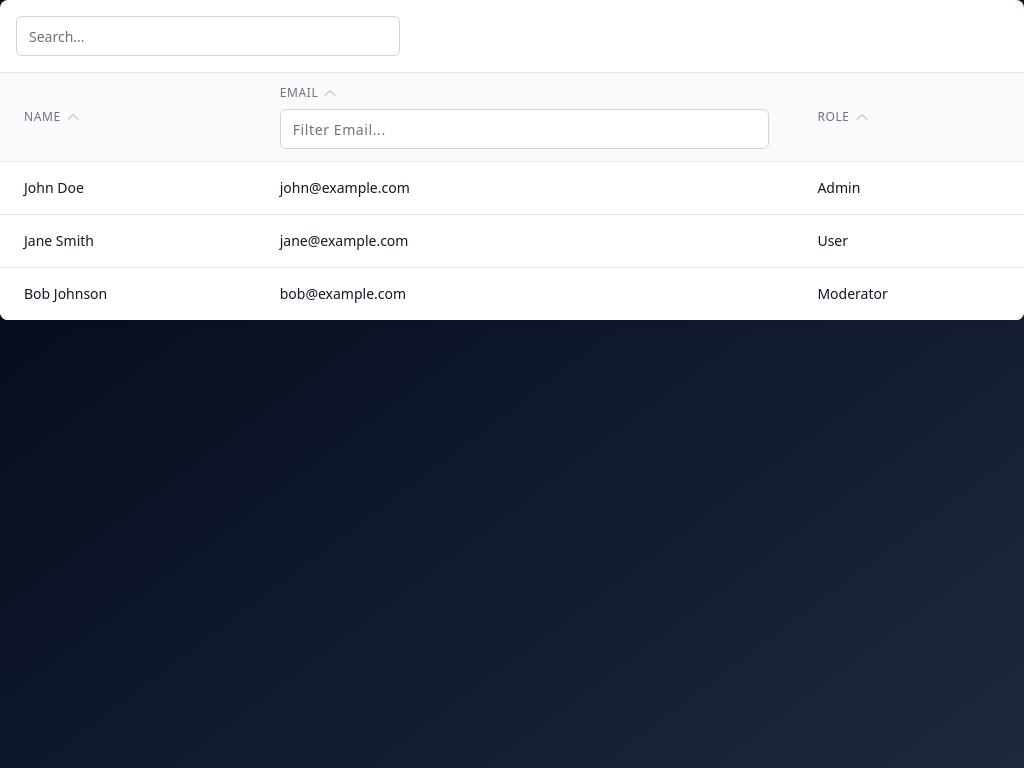
Test: UI Components › DataTable › handles search functionality
Type "John" into the field with placeholder "Search...". click: (208, 36)
box: [16, 16, 400, 56]
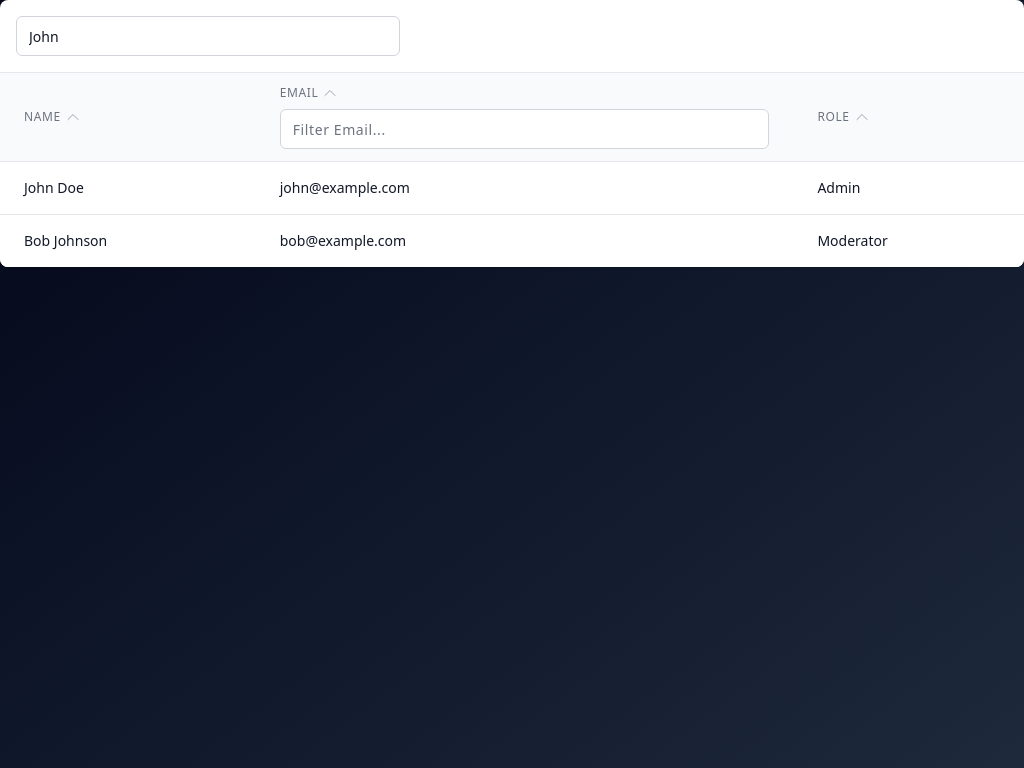
Check: the text "John Doe" is shown, box [0, 162, 256, 214]
Check: the text "Jane Smith" is gone
